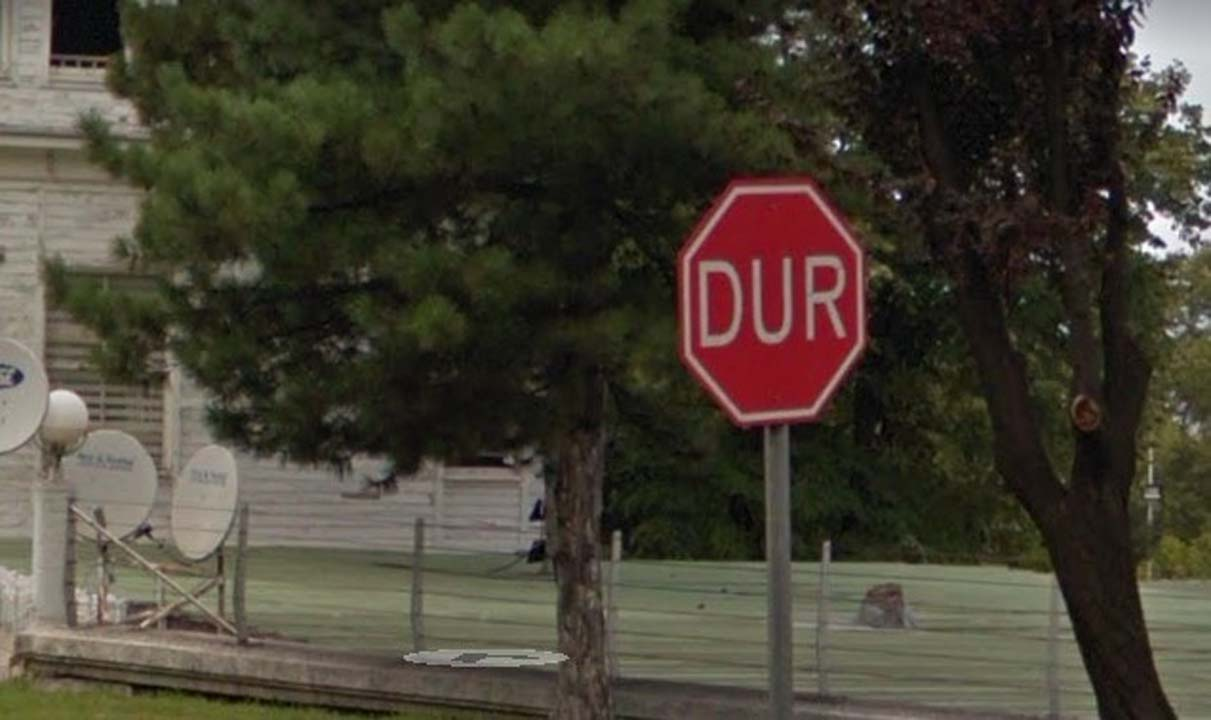arac_dur_isareti: (631, 175, 926, 586)
